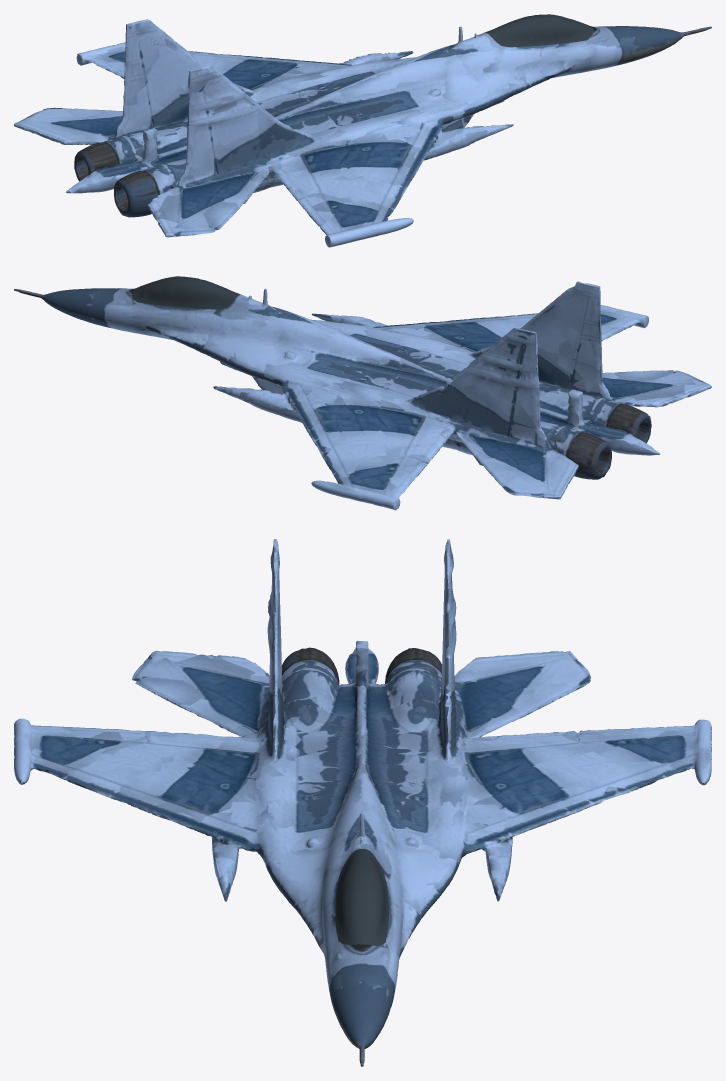
Rendered from fighter.glb.
3 views of the same model, one above another, from view 1: azimuth 30°, elevation 25°; view 2: azimuth 150°, elevation 25°; view 3: azimuth 270°, elevation 25° (orthographic). The views are drawn at different scales.
Visible parts, largest first — view 1: fh_hangar_fighter_1; view 2: fh_hangar_fighter_1; view 3: fh_hangar_fighter_1.
Part boxes in pixels (left/top/right/bottom): fh_hangar_fighter_1: left=14, top=14, right=711, bottom=247; fh_hangar_fighter_1: left=14, top=276, right=711, bottom=510; fh_hangar_fighter_1: left=14, top=539, right=711, bottom=1066.
Bounding box in the file's own units: 0.998 × 0.2202 × 0.6824.
2 materials, 1 textured.
